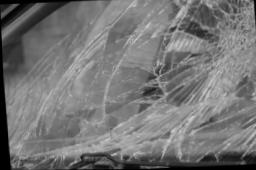Windshield: (1, 0, 256, 170)
